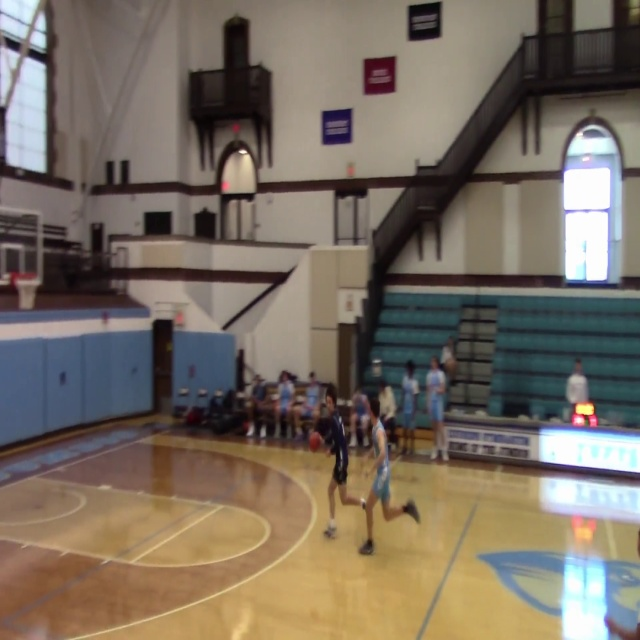Basketball: (308, 431, 323, 452)
